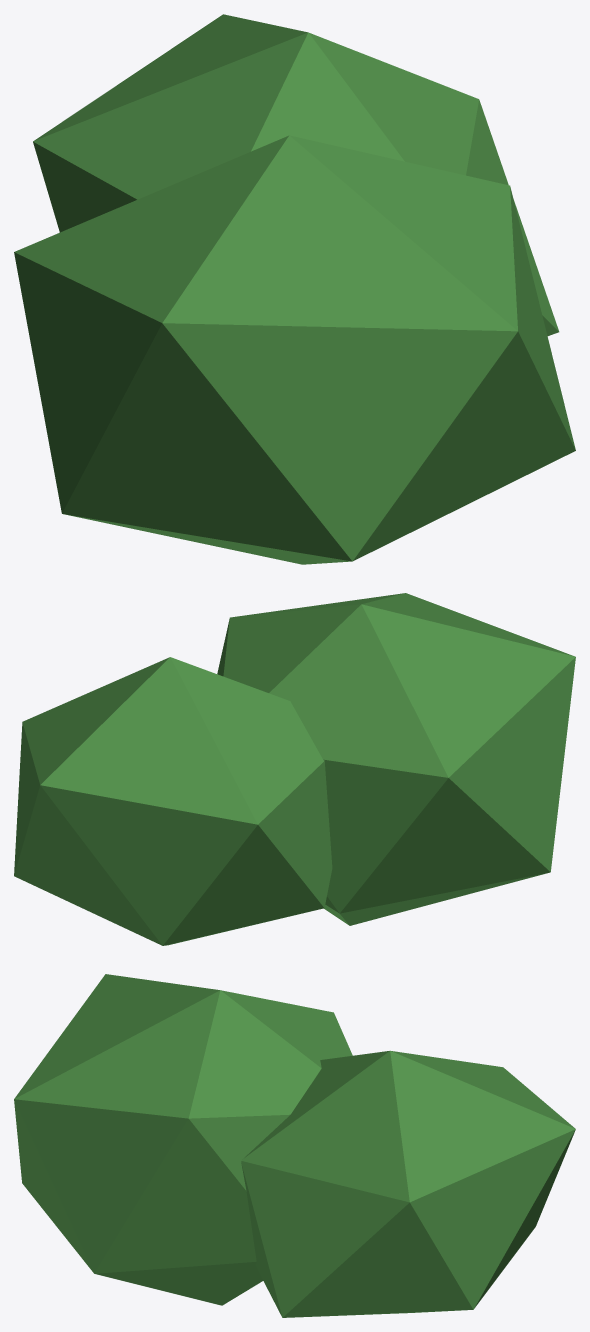
The model's file is Bush_B.glb.
3 views of the same model, one above another, from view 1: azimuth 30°, elevation 25°; view 2: azimuth 150°, elevation 25°; view 3: azimuth 270°, elevation 25° (orthographic). The views are drawn at different scales.
Parts seen in each view (by area): view 1: Bush_B; view 2: Bush_B; view 3: Bush_B.
Boxes of the visible parts, x1,y1,x2,y2 form: Bush_B: (14, 14, 575, 564); Bush_B: (14, 593, 575, 945); Bush_B: (14, 974, 575, 1317).
Bounding box in the file's own units: 1.21 × 0.8905 × 1.46.
